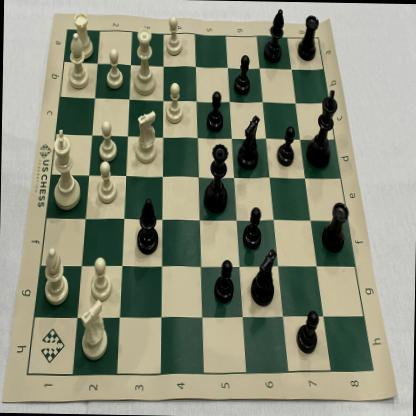black-bishop: (134, 194, 162, 257), (262, 5, 286, 64)
black-king: (304, 86, 338, 171)
black-knight: (249, 244, 280, 309), (236, 112, 262, 172)
black-pawn: (293, 306, 319, 355), (232, 50, 254, 98), (240, 204, 262, 252), (214, 257, 235, 304), (204, 88, 226, 132), (276, 124, 296, 170)
black-queen: (202, 141, 231, 216)
black-rook: (318, 196, 349, 254), (297, 11, 320, 64)
white-bishop: (40, 244, 71, 308), (66, 29, 90, 90)
white-king: (48, 124, 85, 212)
white-knight: (80, 297, 110, 362), (132, 108, 160, 167)
white-pawn: (94, 158, 118, 207), (89, 254, 113, 302), (162, 13, 184, 58), (104, 46, 126, 91), (96, 118, 118, 162), (164, 79, 184, 126)
white-queen: (132, 25, 158, 98)
white-rook: (72, 8, 93, 61)
